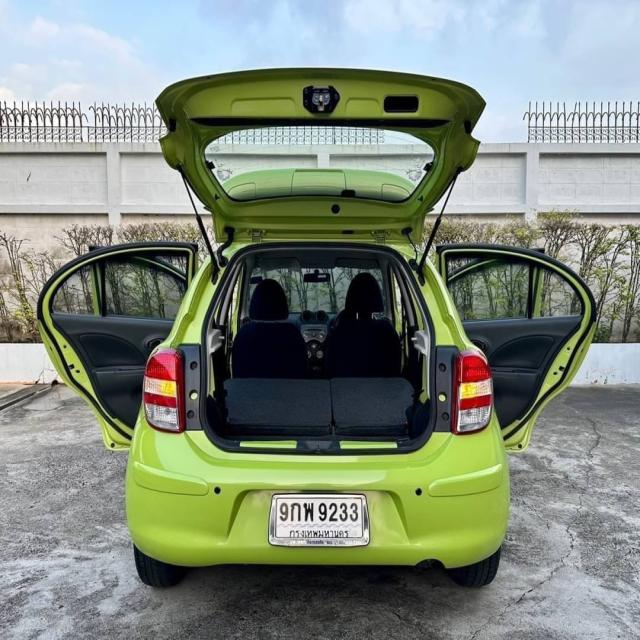license_plate: (266, 491, 373, 550)
